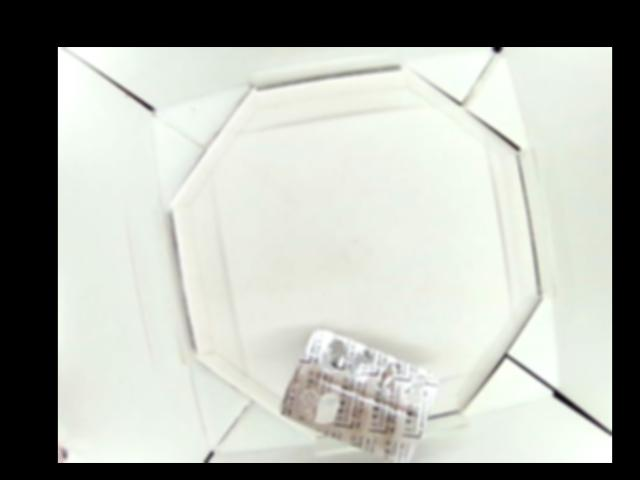Medicine: (281, 324, 439, 462)
